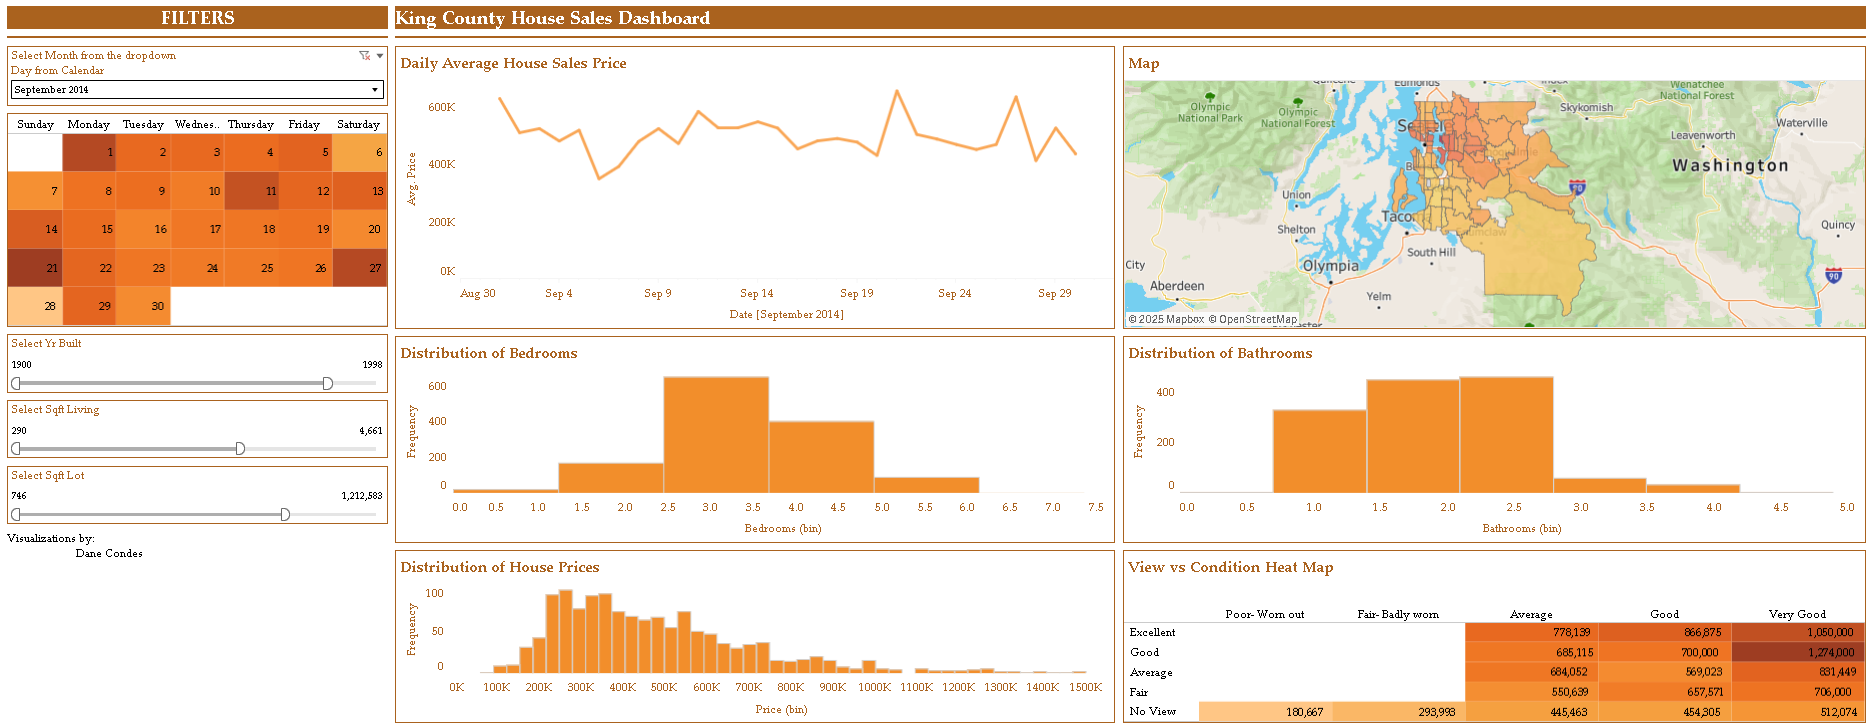

The page's visual inventory and layout, read from the dashboard file:
{"tool":"tableau","page":{"name":"House Sales Dashboard","canvas":[1000,1000],"units":"permille","ordinal":0},"visuals":[{"type":"text","box":[4.8,9.4,205.8,47]},{"type":"text","box":[210.6,9.4,784.6,47]},{"type":"blank","box":[4.8,56.4,205.8,11.8]},{"type":"blank","box":[210.6,56.4,784.6,11.8]},{"type":"filter","title":"Calendar","param":"[federated.0yj79b50rdp1ro11dzs4n078llx8].[my:date:ok]","box":[4.8,68.2,205.8,98.7]},{"type":"worksheet","title":"Line Chart","mark":"Automatic","rows":["price"],"cols":["date"],"box":[210.6,68.2,386.2,387.8]},{"type":"worksheet","title":"Map","mark":"Automatic","box":[596.9,68.2,398.3,387.8]},{"type":"worksheet","title":"Calendar","mark":"Square","rows":["date"],"cols":["date"],"box":[4.8,166.9,205.8,277.3]},{"type":"filter","title":"Calendar","param":"[federated.0yj79b50rdp1ro11dzs4n078llx8].[none:yr_built:qk]","box":[4.8,444.2,205.8,67]},{"type":"worksheet","title":"Bedrooms","mark":"Automatic","rows":["bedrooms"],"cols":["Bedrooms (bin)"],"box":[210.6,455.9,386.2,289.4]},{"type":"worksheet","title":"Bathrooms","mark":"Automatic","rows":["bathrooms"],"cols":["Bathrooms (bin)"],"box":[596.9,455.9,398.3,289.4]},{"type":"filter","title":"Calendar","param":"[federated.0yj79b50rdp1ro11dzs4n078llx8].[none:sqft_living:qk]","box":[4.8,511.2,205.8,67]},{"type":"filter","title":"Calendar","param":"[federated.0yj79b50rdp1ro11dzs4n078llx8].[none:sqft_lot:qk]","box":[4.8,578.1,205.8,67]},{"type":"text","box":[4.8,645.1,205.8,58.8]},{"type":"worksheet","title":"House Prices","mark":"Automatic","rows":["price"],"cols":["Price (bin)"],"box":[210.6,745.3,386.2,245.3]},{"type":"worksheet","title":"Heat Map","mark":"Square","rows":["view"],"cols":["condition"],"box":[596.9,745.3,398.3,245.3]}]}

Visuals, with their boxes on the dashboard's canvas, which has no fixed pixel size, in thousandths of its width and height (x1, y1, x2, y2). These are canvas units, not pixel positions in the 1875x727 screenshot, which may show the page scaled, cropped or inside an application window:
text: detection(5, 9, 211, 56)
text: detection(211, 9, 995, 56)
blank: detection(5, 56, 211, 68)
blank: detection(211, 56, 995, 68)
"Calendar" filter: detection(5, 68, 211, 167)
"Line Chart" worksheet: detection(211, 68, 597, 456)
"Map" worksheet: detection(597, 68, 995, 456)
"Calendar" worksheet (Square marks): detection(5, 167, 211, 444)
"Calendar" filter: detection(5, 444, 211, 511)
"Bedrooms" worksheet: detection(211, 456, 597, 745)
"Bathrooms" worksheet: detection(597, 456, 995, 745)
"Calendar" filter: detection(5, 511, 211, 578)
"Calendar" filter: detection(5, 578, 211, 645)
text: detection(5, 645, 211, 704)
"House Prices" worksheet: detection(211, 745, 597, 991)
"Heat Map" worksheet (Square marks): detection(597, 745, 995, 991)
